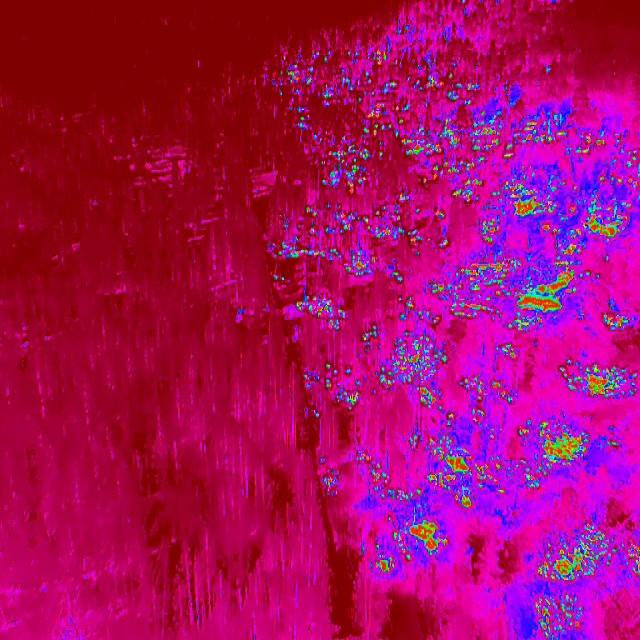fire: (266, 44, 498, 205), (270, 203, 446, 337), (345, 410, 516, 516), (517, 522, 640, 640), (500, 165, 640, 266), (444, 260, 596, 348), (518, 411, 632, 500), (501, 101, 612, 161), (365, 513, 456, 582), (376, 338, 462, 408), (544, 349, 640, 408), (302, 360, 376, 420), (450, 366, 521, 410), (602, 306, 639, 336), (492, 340, 530, 369), (316, 467, 345, 502), (474, 218, 501, 250)
